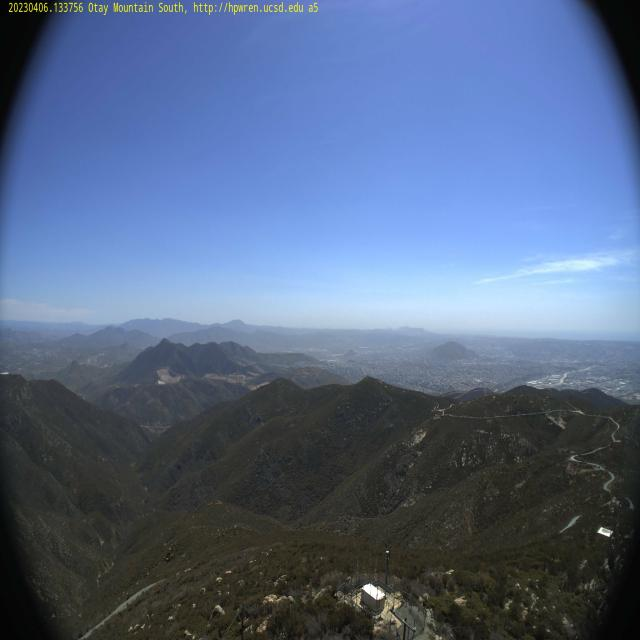smoke: (464, 339, 516, 359)
